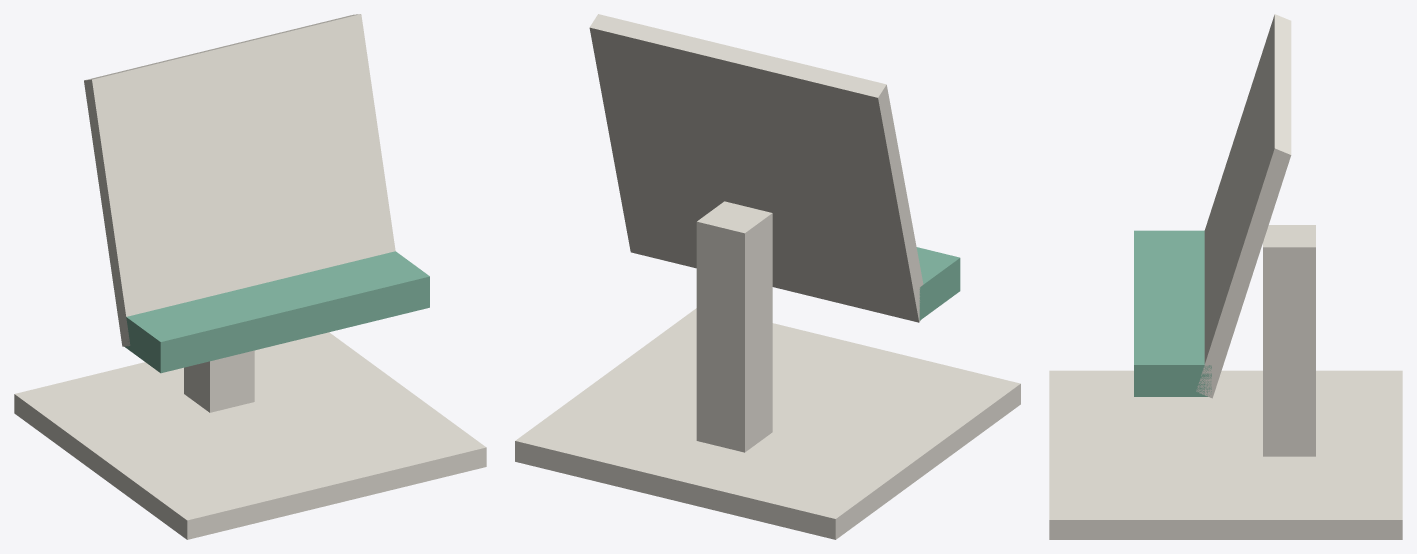
File: tablet-stand.glb
3 renders of one model, left to right at view 1: azimuth 30°, elevation 25°; view 2: azimuth 150°, elevation 25°; view 3: azimuth 270°, elevation 25°, orthographic. The views are drawn at different scales.
Visible parts, largest first — view 1: tablet-stand; view 2: tablet-stand; view 3: tablet-stand.
Boxes of the visible parts, x1,y1,x2,y2 form: tablet-stand: [14, 14, 486, 539]; tablet-stand: [515, 14, 1020, 539]; tablet-stand: [1049, 14, 1402, 539].
Bounding box in the file's own units: 15 × 18 × 15.
